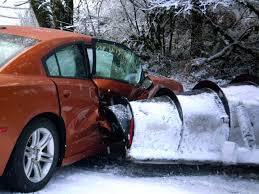doorouter-dent: (86, 37, 141, 110)
